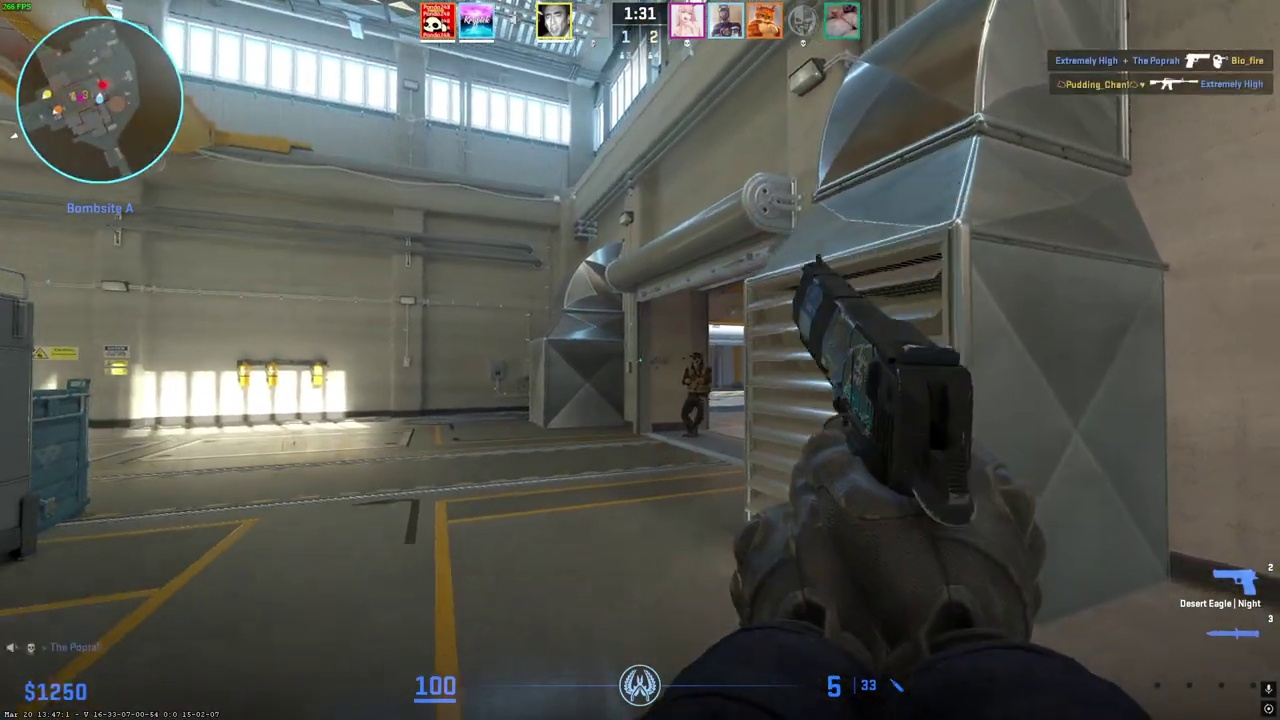Terrorist: (681, 352, 712, 438)
